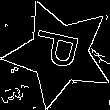P_E: (30, 30, 89, 77)
